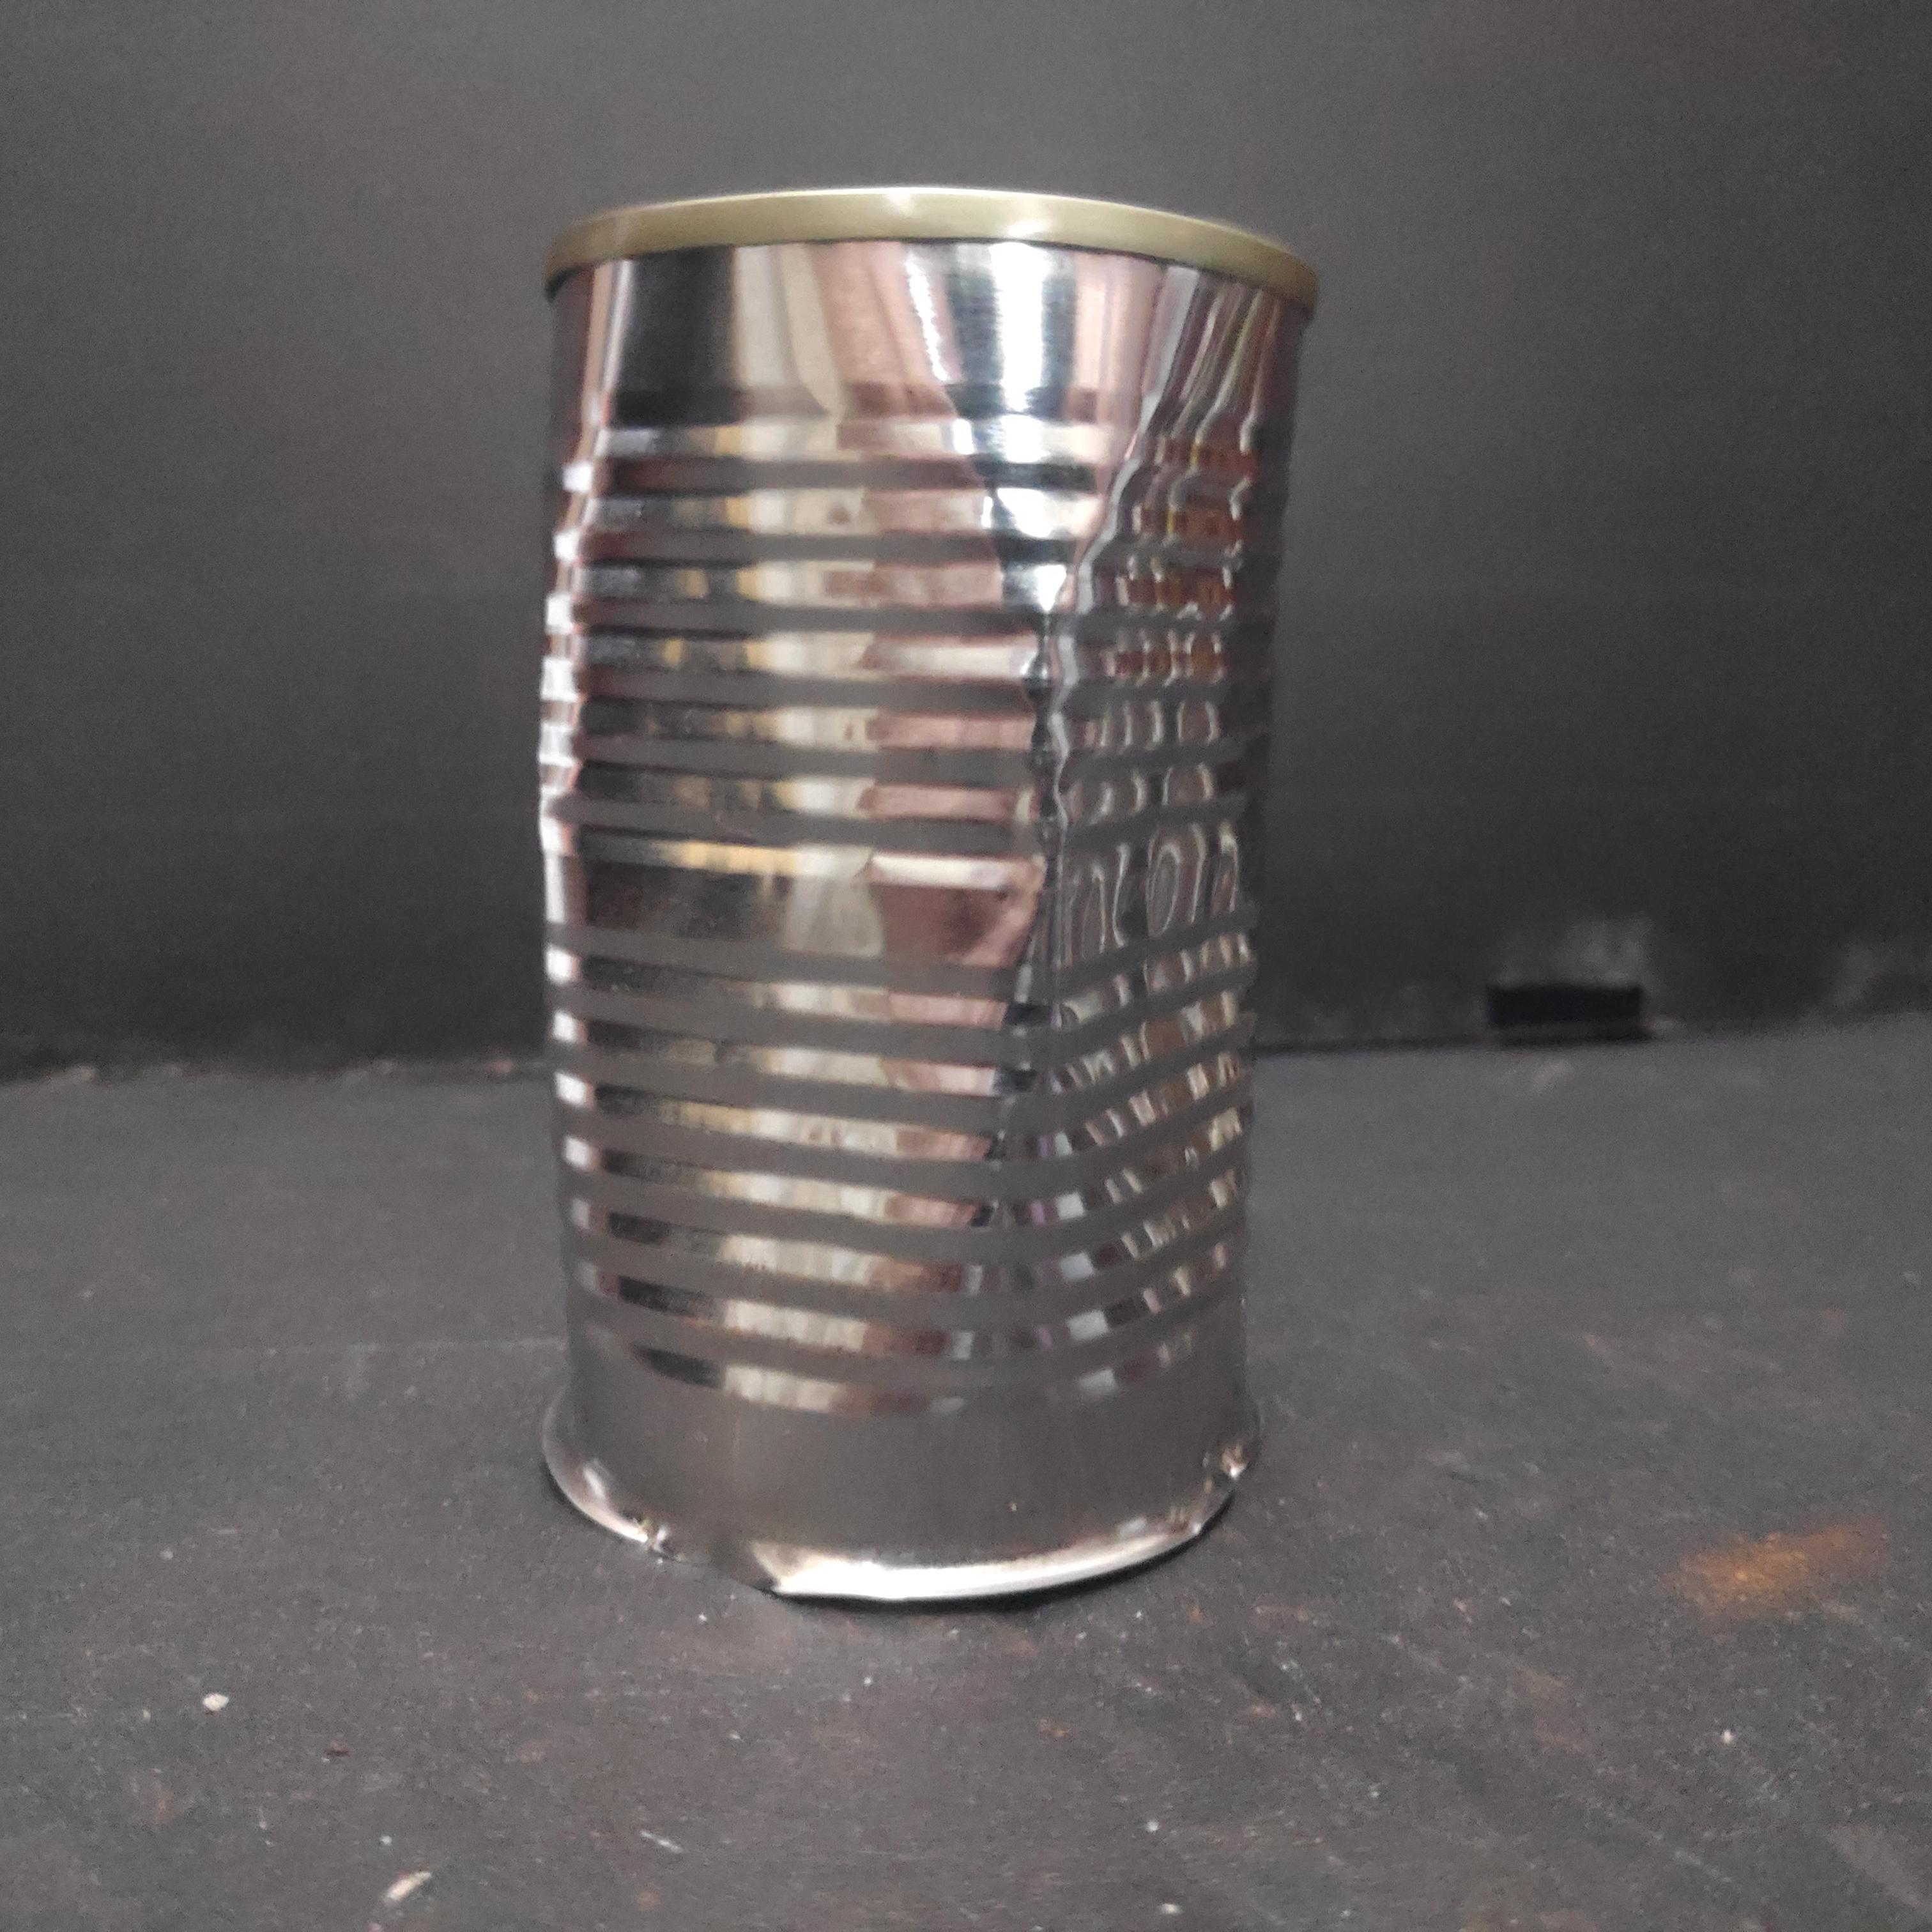Minor Defect: (510, 180, 1330, 1619)
